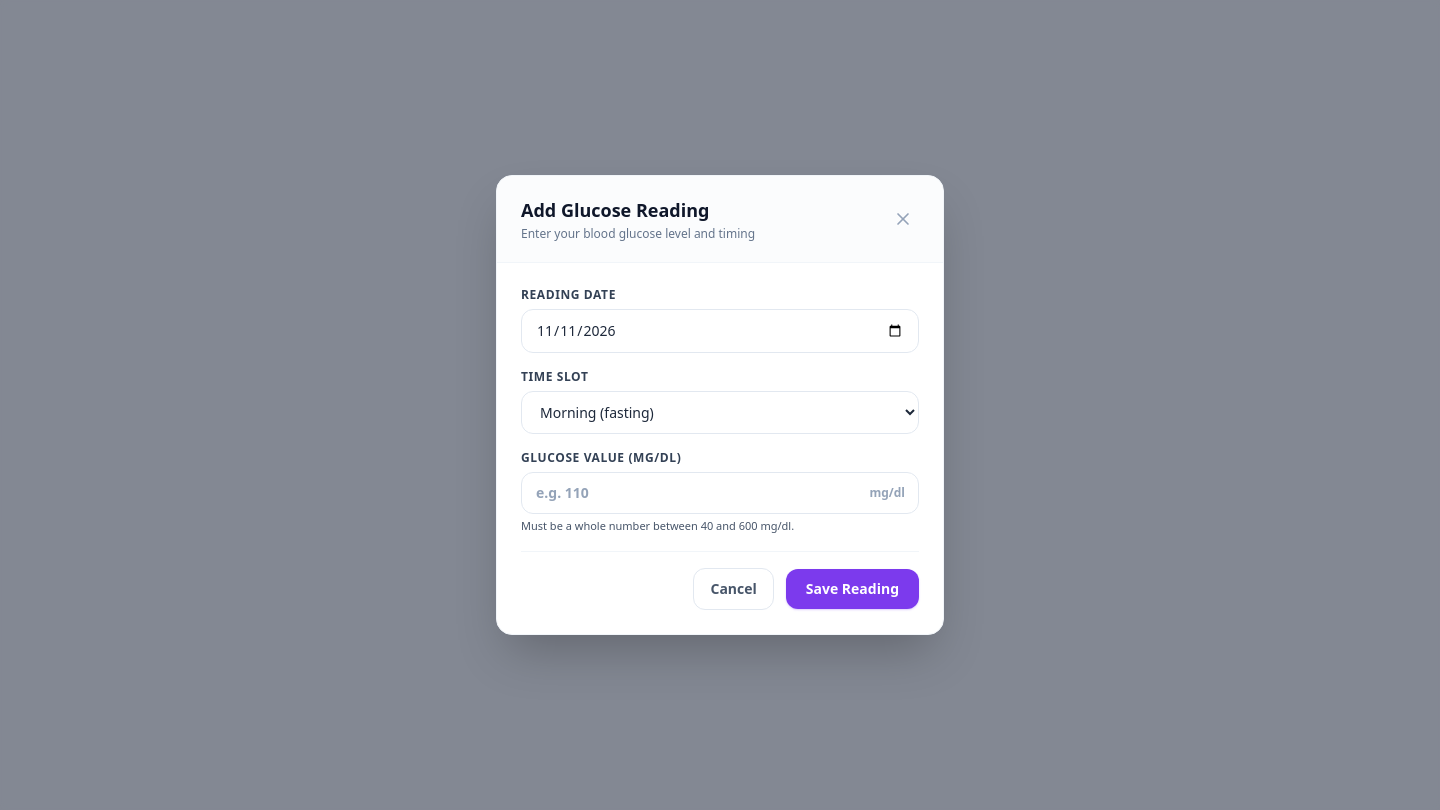
Scenario: ReadingModal Form Component › displays validation error when glucose value is empty (RULE 1)
Note: Click submit with empty input
What coordinates should you click on to do the following:
click the button "Save Reading"
I would click on:
 (852, 589)
Its box is [786,569,919,609].
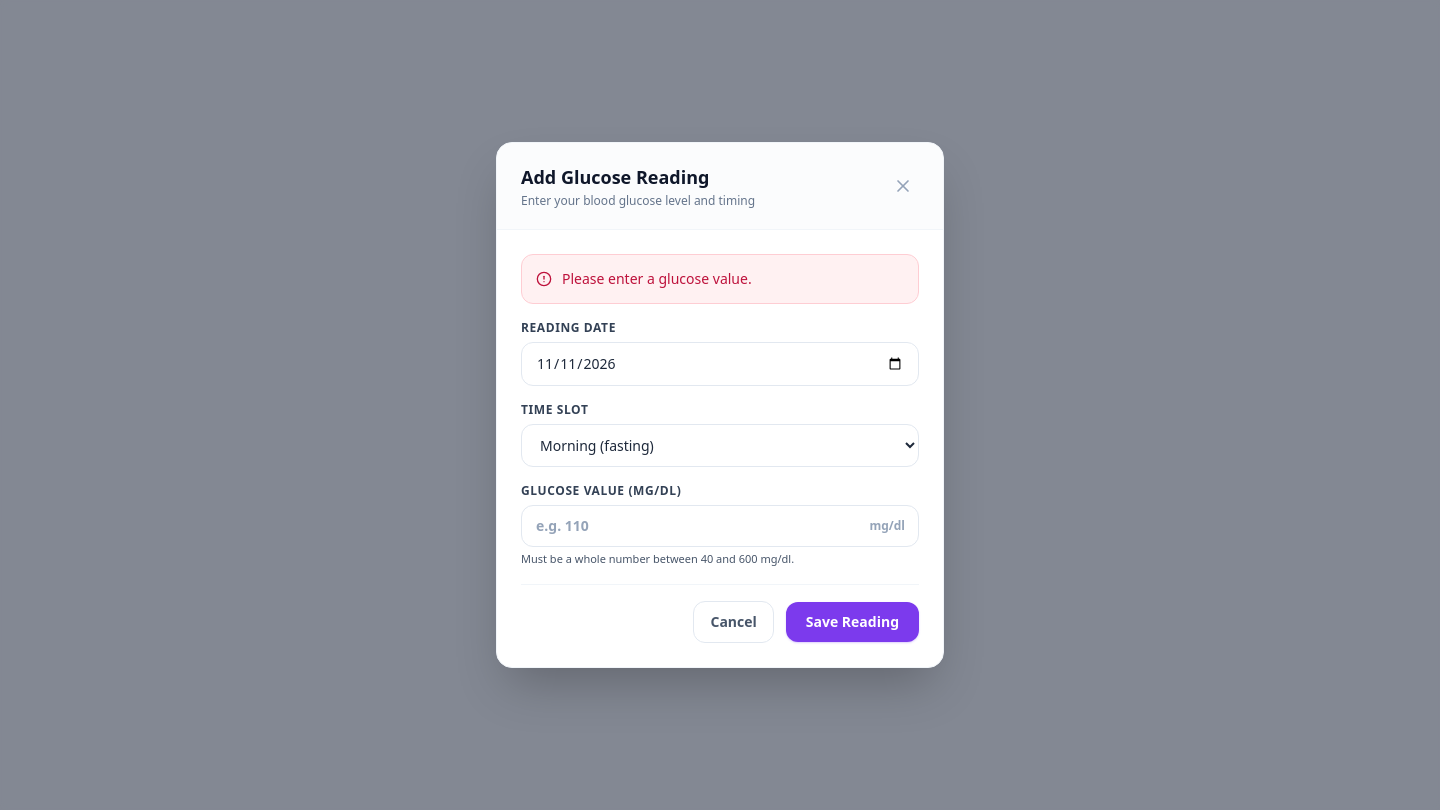
Result: the text "Please enter a glucose value." is shown at [562,269,752,289]
